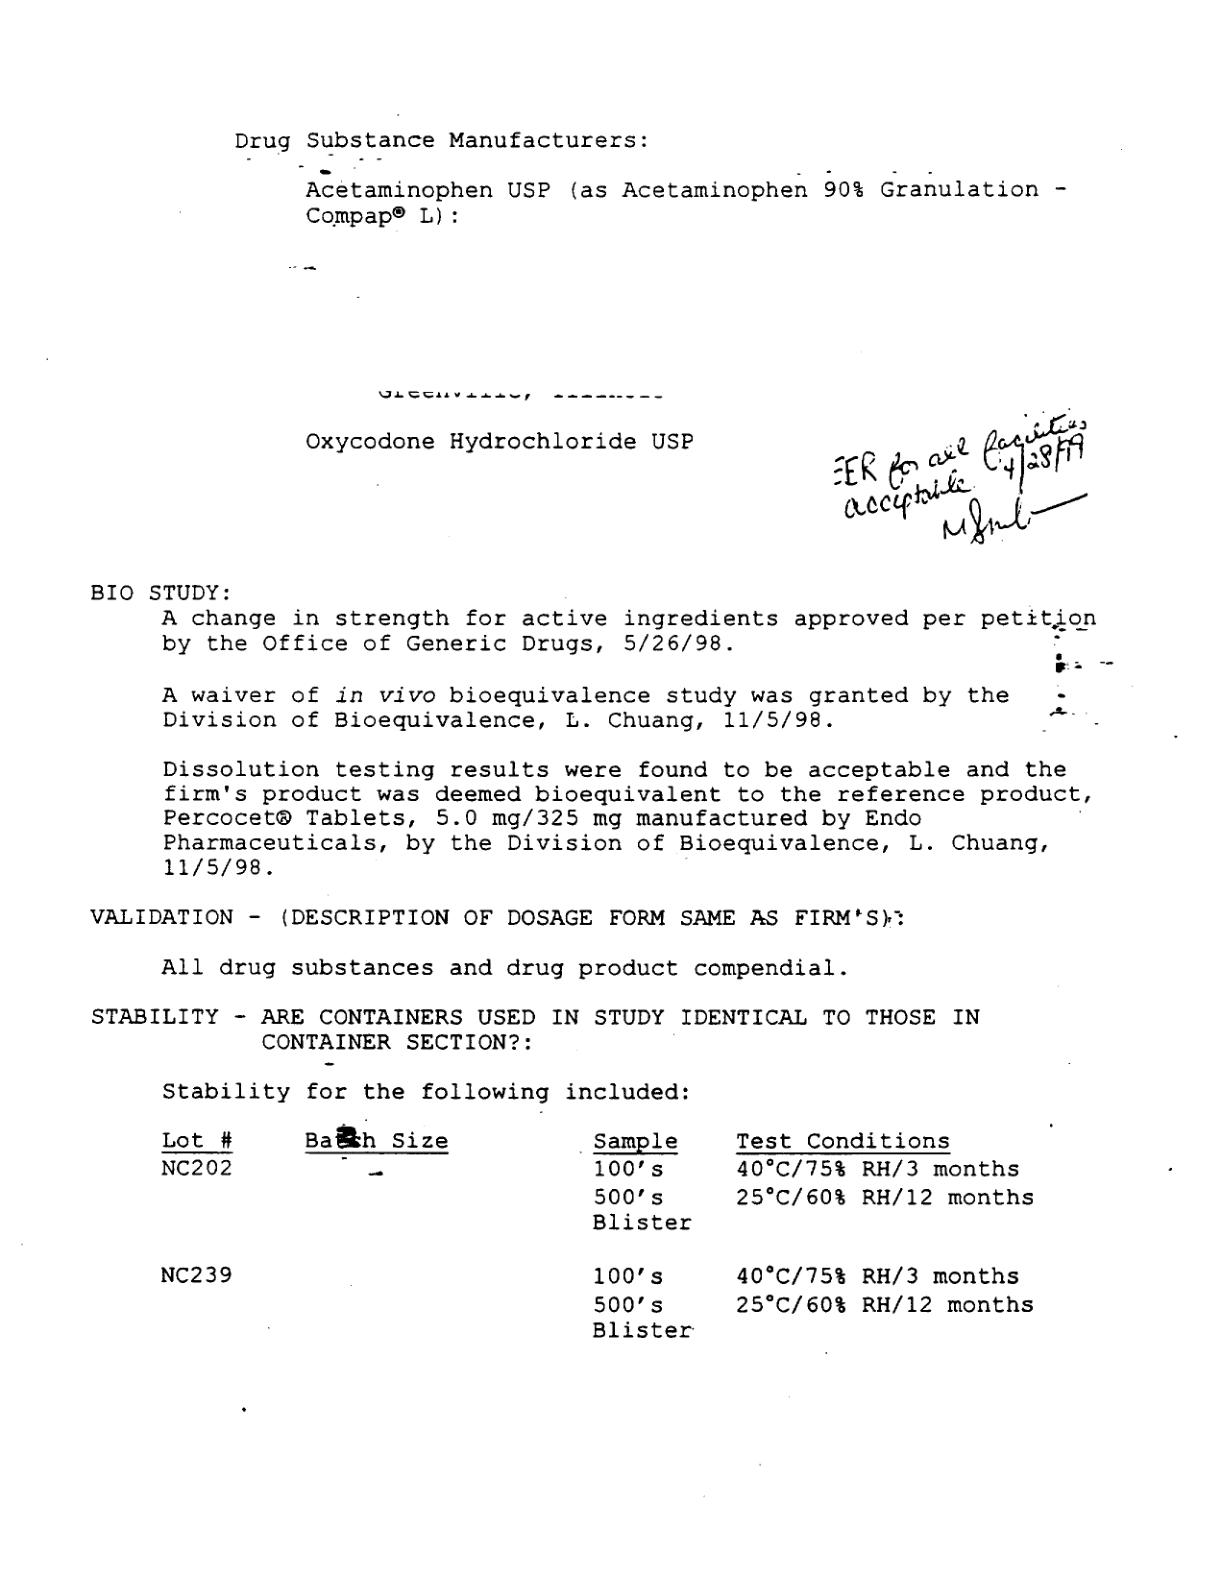nolines: (157, 1119, 1042, 1346)
